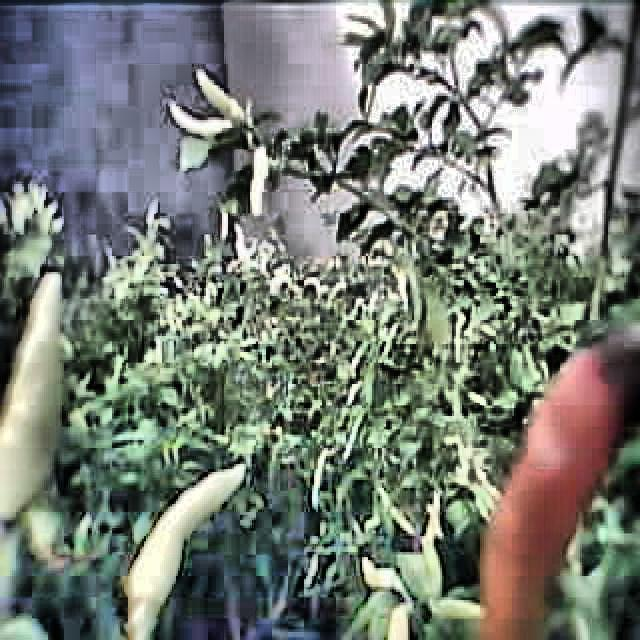Cabai: (465, 343, 638, 640)
